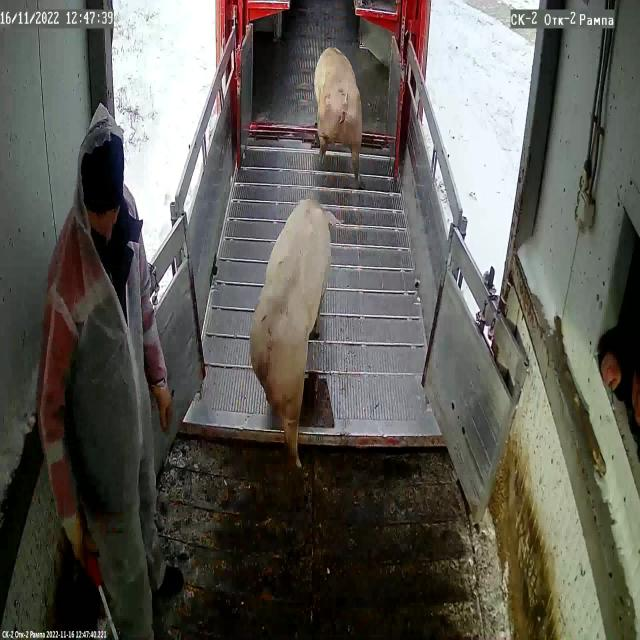pig: (250, 200, 338, 469), (315, 48, 362, 180)
